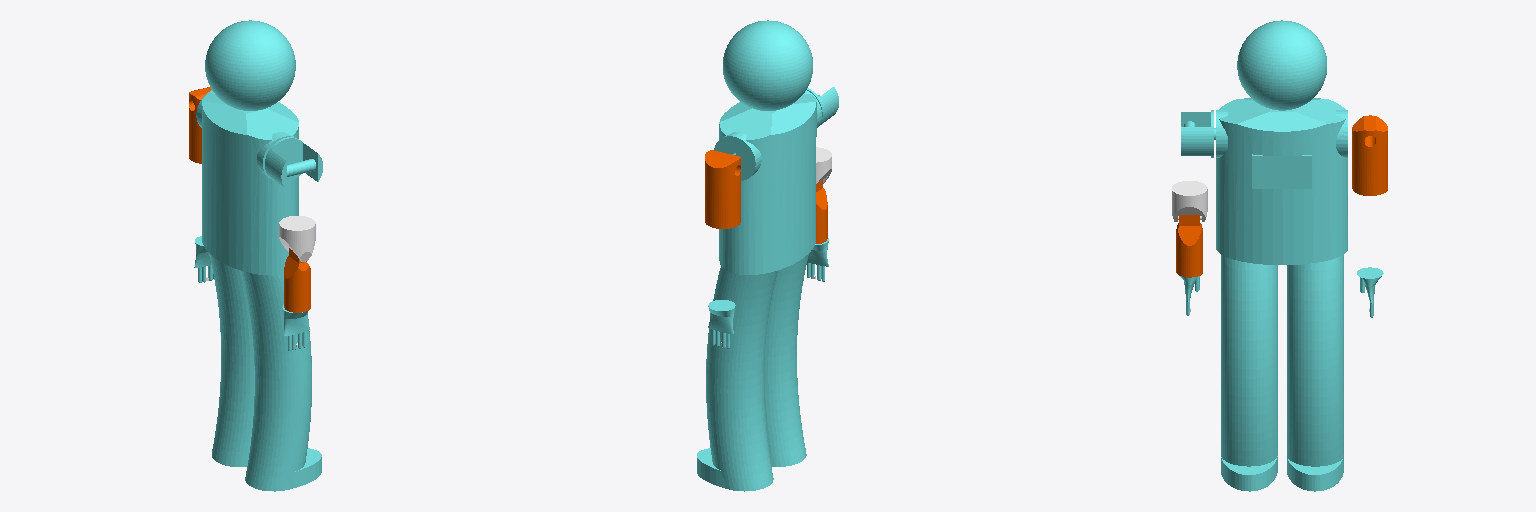
The robot description file, URDF, robot "rob_robot":
<?xml version="1.0" ?>
<!-- =================================================================================== -->
<!-- |    This document was autogenerated by xacro from rob.xacro                      | -->
<!-- |    EDITING THIS FILE BY HAND IS NOT RECOMMENDED                                 | -->
<!-- =================================================================================== -->
<robot name="rob_robot" xmlns:xacro="http://ros.org/wiki/xacro">
  <!-- Include materials -->
  <material name="Black">
    <color rgba="0.0 0.0 0.0 1.0"/>
  </material>
  <material name="Red">
    <color rgba="0.8 0.0 0.0 1.0"/>
  </material>
  <material name="White">
    <color rgba="1.0 1.0 1.0 1.0"/>
  </material>
  <material name="orange">
    <color rgba="1 0.43 0 1"/>
  </material>
  <material name="yellow">
    <color rgba="0 1 1 1"/>
  </material>
  <material name="blue">
    <color rgba="0 0 0.9 1"/>
  </material>
  <material name="green">
    <color rgba="0.5 0.95 0.95 1"/>
  </material>
  <!-- Constants -->
  <!-- inertial matrix macro definition -->
  <!-- transmission block macro definition -->
  <!-- ////////////////////////////////////////////////////////////////////////////////////////// -->
  <!-- BASE LINK AND -->
  <link name="base_link">
    <visual>
      <!-- <origin xyz="-0.22 -0.15 0.00" rpy="0 0 0" />  -->
      <origin rpy="0 0 1.570796" xyz="0.1 -0.11 0.13"/>
      <geometry>
        <mesh filename="package://rob_description/meshes/body_link_humanoid.dae"/>
      </geometry>
      <material name="green"/>
    </visual>
    <collision>
      <origin rpy="0 0 0" xyz="0.0 0.0 0.0"/>
      <!--  -->
      <geometry>
        <mesh filename="package://rob_description/meshes/body_link_humanoid.dae"/>
      </geometry>
    </collision>
  </link>
  <gazebo reference="base_link">
    <material>Gazebo/green</material>
  </gazebo>
  <!-- ////////////////////////////////////////////////////////////////////////////////////////// -->
  <!-- left shoulder link and joint -->
  <joint name="l_shoulder_joint" type="revolute">
    <parent link="base_link"/>
    <child link="l_shoulder_link"/>
    <origin rpy="0 0 3.14159" xyz="0 0.11 0.74"/>
    <axis xyz="0 1 0"/>
    <limit effort="300" lower="-0.43633" upper="3.0543" velocity="0.13962"/>
    <!-- (-25  +175)=(-25 175) -->
    <!-- velocity: m/s for prismatic, rad/s for revolute -->
    <dynamics damping="50" friction="1"/>
  </joint>
  <transmission name="tran1">
    <type>transmission_interface/SimpleTransmission</type>
    <joint name="l_shoulder_joint">
      <hardwareInterface>PositionJointInterface</hardwareInterface>
    </joint>
    <actuator name="motor1">
      <hardwareInterface>PositionJointInterface</hardwareInterface>
      <mechanicalReduction>1</mechanicalReduction>
    </actuator>
  </transmission>
  <link name="l_shoulder_link">
    <visual>
      <origin rpy="1.5708 1.5708 0" xyz="-0.04 0.02 0.04"/>
      <geometry>
        <mesh filename="package://rob_description/meshes/l_shoulder_link.dae"/>
      </geometry>
      <material name="green"/>
    </visual>
    <collision>
      <origin rpy="1.5708 1.5708 0" xyz="-0.04 0.02 0.04"/>
      <geometry>
        <mesh filename="package://rob_description/meshes/l_shoulder_link.dae"/>
      </geometry>
    </collision>
    &gt;
	
    <inertial>
      <mass value="1"/>
      <inertia ixx="1.0" ixy="0.0" ixz="0.0" iyy="0.5" iyz="0.0" izz="1.0"/>
    </inertial>
  </link>
  <gazebo reference="l_shoulder_link">
    <material>Gazebo/green</material>
  </gazebo>
  <!-- ////////////////////////////////////////////////////////////////////////////////////////// -->
  <!-- left bigarm link and joint -->
  <joint name="l_bigarm_joint" type="revolute">
    <parent link="l_shoulder_link"/>
    <child link="l_bigarm_link"/>
    <origin rpy="0 0 3.14159" xyz="0 -0.04 0"/>
    <axis xyz="1 0 0"/>
    <limit effort="300" lower="0" upper="1.13446" velocity="0.16756"/>
    <!--(0  65)=(0 65) -->
    <dynamics damping="50" friction="1"/>
  </joint>
  <transmission name="tran1">
    <type>transmission_interface/SimpleTransmission</type>
    <joint name="l_bigarm_joint">
      <hardwareInterface>PositionJointInterface</hardwareInterface>
    </joint>
    <actuator name="motor1">
      <hardwareInterface>PositionJointInterface</hardwareInterface>
      <mechanicalReduction>1</mechanicalReduction>
    </actuator>
  </transmission>
  <link name="l_bigarm_link">
    <visual>
      <origin rpy="0 0 0" xyz="-0.03 -0.03 -0.1"/>
      <geometry>
        <mesh filename="package://rob_description/meshes/l_bigarm_link.dae"/>
      </geometry>
      <material name="orange"/>
    </visual>
    <collision>
      <origin rpy="0 0 0" xyz="-0.03 -0.03 -0.1"/>
      <geometry>
        <mesh filename="package://rob_description/meshes/l_bigarm_link.dae"/>
      </geometry>
    </collision>
    &gt;
	
    <inertial>
      <mass value="1"/>
      <inertia ixx="1.0" ixy="0.0" ixz="0.0" iyy="0.5" iyz="0.0" izz="1.0"/>
    </inertial>
  </link>
  <gazebo reference="l_bigarm_link">
    <material>Gazebo/orange</material>
  </gazebo>
  <!-- ////////////////////////////////////////////////////////////////////////////////////////// -->
  <!-- left rotatearm link and joint -->
  <joint name="l_rotatearm_joint" type="revolute">
    <parent link="l_bigarm_link"/>
    <child link="l_rotatearm_link"/>
    <origin rpy="0 0 1.5708" xyz="0 0 -0.1"/>
    <axis xyz="0 0 1"/>
    <limit effort="300" lower="-1.39626" upper="1.39626" velocity="0.31416"/>
    <!--(-80  80)=(-80  80) -->
    <dynamics damping="50" friction="1"/>
  </joint>
  <transmission name="tran1">
    <type>transmission_interface/SimpleTransmission</type>
    <joint name="l_rotatearm_joint">
      <hardwareInterface>PositionJointInterface</hardwareInterface>
    </joint>
    <actuator name="motor1">
      <hardwareInterface>PositionJointInterface</hardwareInterface>
      <mechanicalReduction>1</mechanicalReduction>
    </actuator>
  </transmission>
  <link name="l_rotatearm_link">
    <visual>
      <origin rpy="3.14159 0 0" xyz="-0.03 0.03 0"/>
      <geometry>
        <mesh filename="package://rob_description/meshes/l_rotatearm_link.dae"/>
      </geometry>
      <material name="White"/>
    </visual>
    <collision>
      <origin rpy="3.14159 0 0" xyz="-0.03 0.03 0"/>
      <geometry>
        <mesh filename="package://rob_description/meshes/l_rotatearm_link.dae"/>
      </geometry>
    </collision>
    &gt;
	
    <inertial>
      <mass value="1"/>
      <inertia ixx="1.0" ixy="0.0" ixz="0.0" iyy="0.5" iyz="0.0" izz="1.0"/>
    </inertial>
  </link>
  <gazebo reference="l_roatatearm_link">
    <material>Gazebo/White</material>
  </gazebo>
  <!-- ////////////////////////////////////////////////////////////////////////////////////////// -->
  <!--left forearm link and joint -->
  <joint name="l_elbow_joint" type="revolute">
    <parent link="l_rotatearm_link"/>
    <child link="l_forearm_link"/>
    <origin rpy="3.14159 0 3.14159" xyz="0 0 -0.053"/>
    <axis xyz="1 0 0"/>
    <limit effort="300" lower="0" upper="1.5708" velocity="0.2967"/>
    <!--(0 90)=(-90 0) -->
    <dynamics damping="50" friction="1"/>
  </joint>
  <transmission name="tran1">
    <type>transmission_interface/SimpleTransmission</type>
    <joint name="l_elbow_joint">
      <hardwareInterface>PositionJointInterface</hardwareInterface>
    </joint>
    <actuator name="motor1">
      <hardwareInterface>PositionJointInterface</hardwareInterface>
      <mechanicalReduction>1</mechanicalReduction>
    </actuator>
  </transmission>
  <link name="l_forearm_link">
    <visual>
      <origin rpy="3.1415926 0 0" xyz="-0.0225 0.0225 0.1"/>
      <geometry>
        <mesh filename="package://rob_description/meshes/l_forearm_link.dae"/>
      </geometry>
      <material name="orange"/>
    </visual>
    <collision>
      <origin rpy="3.1415926 0 0" xyz="-0.0225 0.0225 0.1"/>
      <geometry>
        <mesh filename="package://rob_description/meshes/l_forearm_link.dae"/>
      </geometry>
    </collision>
    &gt;
	
    <inertial>
      <mass value="1"/>
      <inertia ixx="1.0" ixy="0.0" ixz="0.0" iyy="0.5" iyz="0.0" izz="1.0"/>
    </inertial>
  </link>
  <gazebo reference="l_forearm_link">
    <material>Gazebo/orange</material>
  </gazebo>
  <!-- ////////////////////////////////////////////////////////////////////////////////////////// -->
  <!-- left hand link and joint -->
  <joint name="l_wrist_joint" type="revolute">
    <parent link="l_forearm_link"/>
    <child link="l_hand_link"/>
    <origin rpy="3.14159 0 0" xyz="0 0 0.1"/>
    <axis xyz="0 0 1"/>
    <limit effort="300" lower="-1.39626" upper="1.39626" velocity="0.36652"/>
    <!--(-80  80)=(-80  80) -->
    <dynamics damping="50" friction="1"/>
  </joint>
  <transmission name="tran1">
    <type>transmission_interface/SimpleTransmission</type>
    <joint name="l_wrist_joint">
      <hardwareInterface>PositionJointInterface</hardwareInterface>
    </joint>
    <actuator name="motor1">
      <hardwareInterface>PositionJointInterface</hardwareInterface>
      <mechanicalReduction>1</mechanicalReduction>
    </actuator>
  </transmission>
  <link name="l_hand_link">
    <visual>
      <origin rpy="-3.14159 0 1.570795" xyz="-0.0225 -0.0225 0"/>
      <geometry>
        <mesh filename="package://rob_description/meshes/l_hand_link.dae"/>
      </geometry>
      <material name="green"/>
    </visual>
    <collision>
      <origin rpy="-3.14159 0 1.570795" xyz="-0.0225 -0.0225 0"/>
      <geometry>
        <mesh filename="package://rob_description/meshes/l_hand_link.dae"/>
      </geometry>
    </collision>
    &gt;
	
    <inertial>
      <mass value="1"/>
      <inertia ixx="1.0" ixy="0.0" ixz="0.0" iyy="0.5" iyz="0.0" izz="1.0"/>
    </inertial>
  </link>
  <gazebo reference="l_hand_link">
    <material>Gazebo/orange</material>
  </gazebo>
  <!-- ////////////////////////////////////////////////////////////////////////////////////////// -->
  <!-- left Grasping frame -->
  <joint name="l_grasping_frame_joint" type="fixed">
    <parent link="l_hand_link"/>
    <child link="l_grasping_frame"/>
    <origin rpy="0 0 0" xyz="0 0 -0.070"/>
    <!-- hand long 75 mm =0.075 -->
  </joint>
  <link name="l_grasping_frame">
    <inertial>
      <origin rpy="0 0 0" xyz="0 0 0"/>
      <mass value="0.0001"/>
      <cuboid_inertia mass="0.0001" x="0.001" y="0.001" z="0.001"/>
      <inertia ixx="1.0" ixy="0.0" ixz="0.0" iyy="100.0" iyz="0.0" izz="1.0"/>
    </inertial>
    <visual>
      <origin xyz="0 0 0"/>
      <geometry>
        <box size="0.005 0.005 0.005"/>
      </geometry>
      <material name="White"/>
    </visual>
  </link>
  <!-- ////////////////////////////////////////////////////////////////////////////////////////// -->
  <!-- right shoulder link and joint -->
  <joint name="r_shoulder_joint" type="revolute">
    <parent link="base_link"/>
    <child link="r_shoulder_link"/>
    <origin rpy="0 0 3.14159" xyz="0 -0.11 0.74"/>
    <axis xyz="0 1 0"/>
    <limit effort="300" lower="-0.43633" upper="3.0543" velocity="0.1501"/>
    <!-- (-25  +175)=(-25  +175) -->
    <!-- <limit effort="3000" velocity="0.7505" lower="-${M_PI}" upper="${M_PI}"/> -->
    <dynamics damping="50" friction="1"/>
  </joint>
  <transmission name="tran1">
    <type>transmission_interface/SimpleTransmission</type>
    <joint name="r_shoulder_joint">
      <hardwareInterface>PositionJointInterface</hardwareInterface>
    </joint>
    <actuator name="motor1">
      <hardwareInterface>PositionJointInterface</hardwareInterface>
      <mechanicalReduction>1</mechanicalReduction>
    </actuator>
  </transmission>
  <link name="r_shoulder_link">
    <visual>
      <origin rpy="-1.5708 1.5708 0" xyz="0.04 -0.02 0.04"/>
      <geometry>
        <mesh filename="package://rob_description/meshes/r_shoulder_link.dae"/>
      </geometry>
      <material name="green"/>
    </visual>
    <collision>
      <origin rpy="-1.5708 1.5708 0" xyz="0.04 -0.02 0.04"/>
      <geometry>
        <mesh filename="package://rob_description/meshes/r_shoulder_link.dae"/>
      </geometry>
    </collision>
    &gt;
	
    <inertial>
      <mass value="1"/>
      <inertia ixx="1.0" ixy="0.0" ixz="0.0" iyy="0.5" iyz="0.0" izz="1.0"/>
    </inertial>
  </link>
  <gazebo reference="r_shoulder_link">
    <material>Gazebo/green</material>
  </gazebo>
  <!-- ////////////////////////////////////////////////////////////////////////////////////////// -->
  <!-- right bigarm link and joint -->
  <joint name="r_bigarm_joint" type="revolute">
    <parent link="r_shoulder_link"/>
    <child link="r_bigarm_link"/>
    <origin rpy="0 0 0" xyz="0 0.04 0"/>
    <axis xyz="1 0 0"/>
    <limit effort="300" lower="0" upper="1.13446" velocity="0.18676"/>
    <!--(0  65)=(0 65) -->
    <!-- <limit effort="3000" velocity="0.9338" lower="-${M_PI}" upper="${M_PI}"/> -->
    <dynamics damping="50" friction="1"/>
  </joint>
  <transmission name="tran1">
    <type>transmission_interface/SimpleTransmission</type>
    <joint name="r_bigarm_joint">
      <hardwareInterface>PositionJointInterface</hardwareInterface>
    </joint>
    <actuator name="motor1">
      <hardwareInterface>PositionJointInterface</hardwareInterface>
      <mechanicalReduction>1</mechanicalReduction>
    </actuator>
  </transmission>
  <link name="r_bigarm_link">
    <visual>
      <origin rpy="0 0 0" xyz="-0.03 -0.03 -0.1"/>
      <geometry>
        <mesh filename="package://rob_description/meshes/r_bigarm_link.dae"/>
      </geometry>
      <material name="orange"/>
    </visual>
    <collision>
      <origin rpy="0 0 0" xyz="-0.03 -0.03 -0.1"/>
      <geometry>
        <mesh filename="package://rob_description/meshes/r_bigarm_link.dae"/>
      </geometry>
    </collision>
    &gt;
	
    <inertial>
      <mass value="1"/>
      <inertia ixx="1.0" ixy="0.0" ixz="0.0" iyy="0.5" iyz="0.0" izz="1.0"/>
    </inertial>
  </link>
  <gazebo reference="r_bigarm_link">
    <material>Gazebo/orange</material>
  </gazebo>
  <!-- ////////////////////////////////////////////////////////////////////////////////////////// -->
  <!-- right rotatearm link and joint -->
  <joint name="r_rotatearm_joint" type="revolute">
    <parent link="r_bigarm_link"/>
    <child link="r_rotatearm_link"/>
    <origin rpy="3.1415926 0.0 1.5708" xyz="0 0 -0.1"/>
    <axis xyz="0 0 1"/>
    <limit effort="300" lower="-1.39626" upper="1.39626" velocity="0.41888"/>
    <!--(-80  80)=(-80  80) -->
    <!-- <limit effort="3000" velocity="2.0944" lower="-${M_PI}" upper="${M_PI}"/> -->
    <dynamics damping="50" friction="1"/>
  </joint>
  <transmission name="tran1">
    <type>transmission_interface/SimpleTransmission</type>
    <joint name="r_rotatearm_joint">
      <hardwareInterface>PositionJointInterface</hardwareInterface>
    </joint>
    <actuator name="motor1">
      <hardwareInterface>PositionJointInterface</hardwareInterface>
      <mechanicalReduction>1</mechanicalReduction>
    </actuator>
  </transmission>
  <link name="r_rotatearm_link">
    <visual>
      <origin rpy="0 0 0" xyz="-0.03 -0.03 0"/>
      <geometry>
        <mesh filename="package://rob_description/meshes/r_rotatearm_link.dae"/>
      </geometry>
      <material name="White"/>
    </visual>
    <collision>
      <origin rpy="0 0 0" xyz="-0.03 -0.03 0"/>
      <geometry>
        <mesh filename="package://rob_description/meshes/r_rotatearm_link.dae"/>
      </geometry>
    </collision>
    &gt;
	
    <inertial>
      <mass value="1"/>
      <inertia ixx="1.0" ixy="0.0" ixz="0.0" iyy="0.5" iyz="0.0" izz="1.0"/>
    </inertial>
  </link>
  <gazebo reference="r_rptatearm_link">
    <material>Gazebo/White</material>
  </gazebo>
  <!-- ////////////////////////////////////////////////////////////////////////////////////////// -->
  <!--right forearm link and joint -->
  <joint name="r_elbow_joint" type="revolute">
    <parent link="r_rotatearm_link"/>
    <child link="r_forearm_link"/>
    <origin rpy="0 0 0" xyz="0 0 .053"/>
    <axis xyz="1 0 0"/>
    <limit effort="300" lower="0" upper="1.5708" velocity="0.27296"/>
    <!--(0 90)=(0 90) -->
    <!-- <limit effort="3000" velocity="1.3648" lower="-${M_PI}" upper="${M_PI}"/> -->
    <dynamics damping="50" friction="1"/>
  </joint>
  <transmission name="tran1">
    <type>transmission_interface/SimpleTransmission</type>
    <joint name="r_elbow_joint">
      <hardwareInterface>PositionJointInterface</hardwareInterface>
    </joint>
    <actuator name="motor1">
      <hardwareInterface>PositionJointInterface</hardwareInterface>
      <mechanicalReduction>1</mechanicalReduction>
    </actuator>
  </transmission>
  <link name="r_forearm_link">
    <visual>
      <origin rpy="3.1415926 0 0" xyz="-0.0225 0.0225 0.1"/>
      <geometry>
        <mesh filename="package://rob_description/meshes/r_forearm_link.dae"/>
      </geometry>
      <material name="orange"/>
    </visual>
    <collision>
      <origin rpy="3.1415926 0 0" xyz="-0.0225 0.0225 0.1"/>
      <geometry>
        <mesh filename="package://rob_description/meshes/r_forearm_link.dae"/>
      </geometry>
    </collision>
    &gt;
	
    <inertial>
      <mass value="1"/>
      <inertia ixx="1.0" ixy="0.0" ixz="0.0" iyy="0.5" iyz="0.0" izz="1.0"/>
    </inertial>
  </link>
  <gazebo reference="r_forearm_link">
    <material>Gazebo/orange</material>
  </gazebo>
  <!-- ////////////////////////////////////////////////////////////////////////////////////////// -->
  <!-- right hand link and joint -->
  <joint name="r_wrist_joint" type="revolute">
    <parent link="r_forearm_link"/>
    <child link="r_hand_link"/>
    <origin rpy="0 0 0" xyz="0 0 0.1"/>
    <axis xyz="0 0 1"/>
    <limit effort="300" lower="-1.39626" upper="1.39626" velocity="0.41888"/>
    <!--(-80  80)=(-80  80) -->
    <!-- <limit effort="3000" velocity="2.0944" lower="-${M_PI}" upper="${M_PI}"/> -->
    <dynamics damping="50" friction="1"/>
  </joint>
  <transmission name="tran1">
    <type>transmission_interface/SimpleTransmission</type>
    <joint name="r_wrist_joint">
      <hardwareInterface>PositionJointInterface</hardwareInterface>
    </joint>
    <actuator name="motor1">
      <hardwareInterface>PositionJointInterface</hardwareInterface>
      <mechanicalReduction>1</mechanicalReduction>
    </actuator>
  </transmission>
  <link name="r_hand_link">
    <visual>
      <origin rpy="0 0 1.5708" xyz="0.0225 -0.0225 0"/>
      <geometry>
        <mesh filename="package://rob_description/meshes/r_hand_link.dae"/>
      </geometry>
      <material name="green"/>
    </visual>
    <collision>
      <origin rpy="0 0 1.5708" xyz="0.0225 -0.0225 0"/>
      <geometry>
        <mesh filename="package://rob_description/meshes/r_hand_link.dae"/>
      </geometry>
    </collision>
    &gt;
	
    <inertial>
      <mass value="1"/>
      <inertia ixx="1.0" ixy="0.0" ixz="0.0" iyy="0.5" iyz="0.0" izz="1.0"/>
    </inertial>
  </link>
  <gazebo reference="r_hand_link">
    <material>Gazebo/green</material>
  </gazebo>
  <!-- ////////////////////////////////////////////////////////////////////////////////////////// -->
  <!-- right Grasping frame -->
  <joint name="r_grasping_frame_joint" type="fixed">
    <parent link="r_hand_link"/>
    <child link="r_grasping_frame"/>
    <origin rpy="0 0 0" xyz="0 0 0.070"/>
    <!-- hand long 75 mm =0.075 -->
  </joint>
  <link name="r_grasping_frame">
    <inertial>
      <origin rpy="0 0 0" xyz="0 0 0"/>
      <mass value="0.0001"/>
      <cuboid_inertia mass="0.0001" x="0.001" y="0.001" z="0.001"/>
      <inertia ixx="1.0" ixy="0.0" ixz="0.0" iyy="100.0" iyz="0.0" izz="1.0"/>
    </inertial>
    <visual>
      <origin xyz="0 0 0"/>
      <geometry>
        <box size="0.005 0.005 0.005"/>
      </geometry>
      <material name="White"/>
    </visual>
  </link>
  <!-- ///////////////////////////////////////////////////////////////////////////////////////////////////////////////////// -->
  <!-- ros_control plugin -->
  <gazebo>
    <plugin filename="libgazebo_ros_control.so" name="gazebo_ros_control">
      <robotNamespace>/ipal_robot</robotNamespace>
    </plugin>
  </gazebo>
</robot>

--- Render facts (derived) ---
3 views of the same robot in one strip: view 1: azimuth 30°, elevation 25°; view 2: azimuth 150°, elevation 25°; view 3: azimuth 270°, elevation 25° (orthographic).
Robot: rob_robot — 13 links, 12 joints (10 revolute, 2 fixed); root link base_link; default pose: all joints at 0.
Links seen in each view (by area): view 1: base_link, r_shoulder_link, r_forearm_link, r_rotatearm_link, l_bigarm_link, r_hand_link, l_hand_link; view 2: base_link, l_bigarm_link, l_hand_link, r_forearm_link, r_hand_link, r_shoulder_link; view 3: base_link, l_bigarm_link, r_forearm_link, r_shoulder_link, r_rotatearm_link, l_hand_link.
Boxes of the visible links, x1=… form: base_link: x1=196, y1=20, x2=321, y2=491; r_shoulder_link: x1=265, y1=137, x2=322, y2=189; r_forearm_link: x1=284, y1=248, x2=310, y2=312; r_rotatearm_link: x1=279, y1=216, x2=315, y2=261; l_bigarm_link: x1=189, y1=87, x2=211, y2=163; r_hand_link: x1=282, y1=305, x2=309, y2=350; l_hand_link: x1=194, y1=236, x2=213, y2=282; base_link: x1=697, y1=20, x2=821, y2=491; l_bigarm_link: x1=705, y1=150, x2=740, y2=228; l_hand_link: x1=708, y1=300, x2=735, y2=348; r_forearm_link: x1=816, y1=180, x2=827, y2=243; r_hand_link: x1=807, y1=238, x2=828, y2=281; r_shoulder_link: x1=807, y1=87, x2=838, y2=126; base_link: x1=1216, y1=20, x2=1347, y2=491; l_bigarm_link: x1=1352, y1=115, x2=1387, y2=195; r_forearm_link: x1=1176, y1=215, x2=1202, y2=277; r_shoulder_link: x1=1181, y1=110, x2=1215, y2=157; r_rotatearm_link: x1=1172, y1=181, x2=1207, y2=221; l_hand_link: x1=1357, y1=267, x2=1383, y2=317.
Bounding box of the posed robot: 0.1749 × 0.3606 × 0.81 m (x, y, z).
Meshes: 11 distinct files referenced, 7 mesh visuals loaded (7 Collada DAE); not drawn: 4 (reference not matched to a file when rendering).
